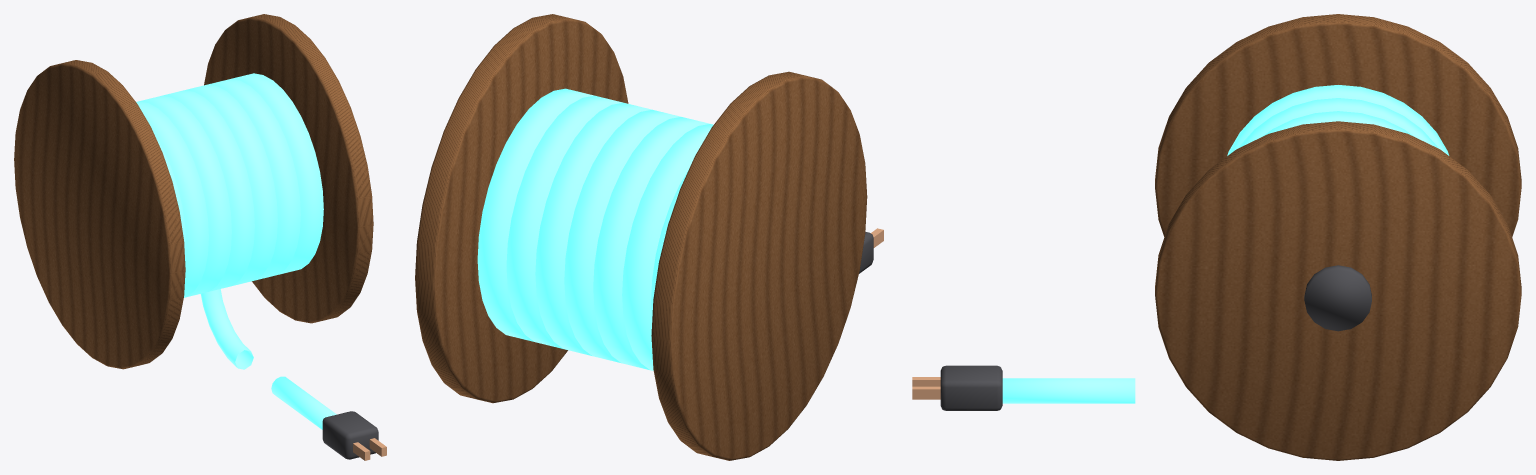
Rendered from GlowWire.glb.
3 views of the same model, side by side, from view 1: azimuth 30°, elevation 25°; view 2: azimuth 150°, elevation 25°; view 3: azimuth 270°, elevation 25° (orthographic). The views are drawn at different scales.
Visible parts, largest first — view 1: GlowWire; view 2: GlowWire; view 3: GlowWire.
Boxes of the visible parts, x1=… form: GlowWire: x1=14, y1=14, x2=386, y2=460; GlowWire: x1=415, y1=14, x2=883, y2=460; GlowWire: x1=912, y1=14, x2=1521, y2=460.
Bounding box in the file's own units: 1.02 × 1.3 × 2.16.
Materials: 4 (1 with a texture image).
